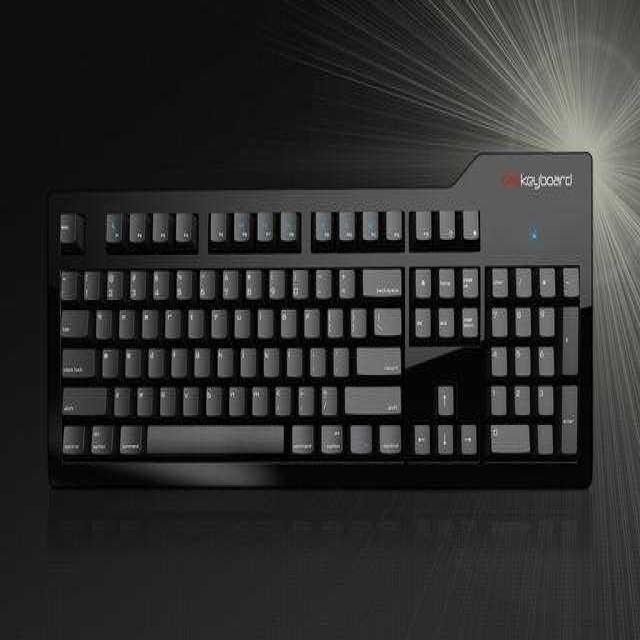keyboard: (50, 186, 591, 493)
